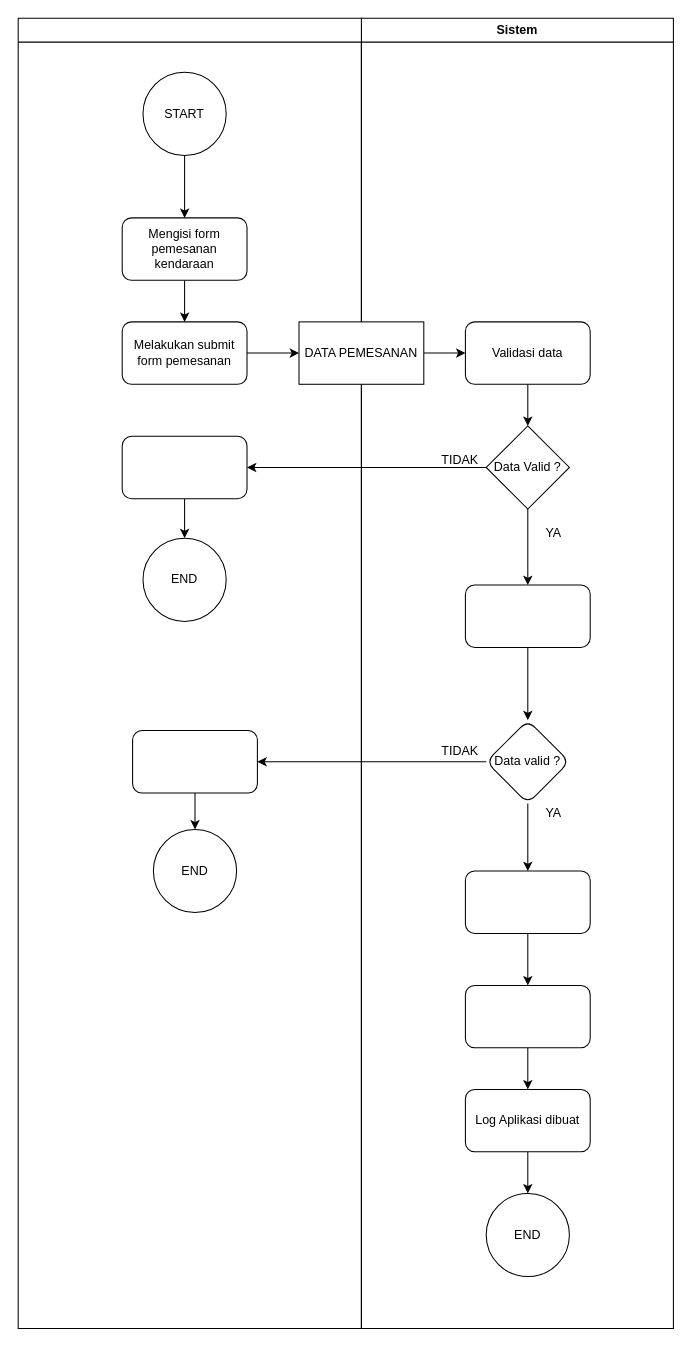
This 692x1347 diagram has some shape labels left out. Each missing label, with the box of its shape:
Pemsanan dibuat: (464, 870, 590, 933)
Persetujuan Pemesanan dibuat: (464, 984, 590, 1048)
Tampilan data pihak penyetuju tidak valid: (132, 730, 257, 793)
Tampilan field data tidak valid: (121, 435, 247, 499)
Validasi data pihak penyetuju: (464, 584, 590, 647)
View: (17, 17, 361, 1329)
